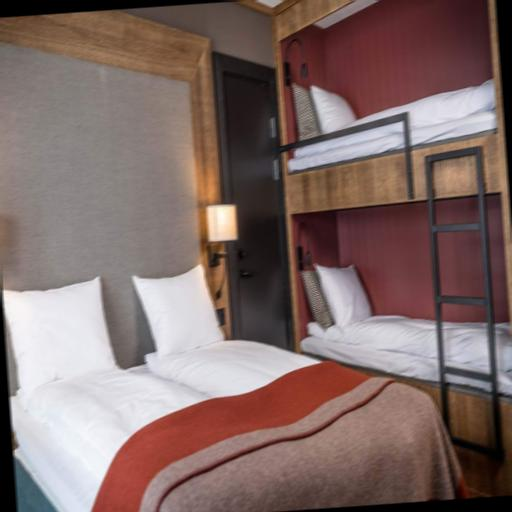bed: (0, 245, 472, 512), (6, 323, 472, 512), (293, 250, 512, 412), (297, 304, 512, 411), (282, 72, 499, 173)
